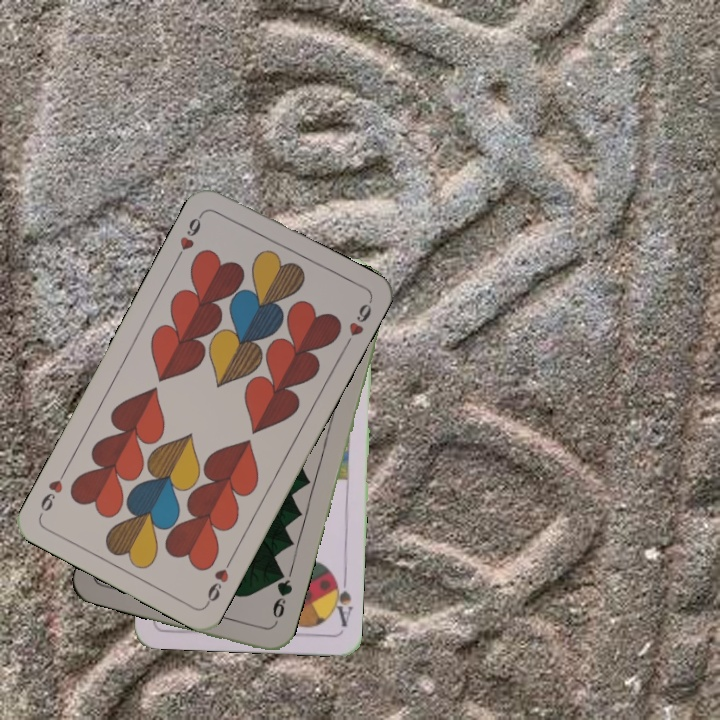G9: (268, 569, 295, 621)
H9: (202, 553, 236, 608), (172, 208, 206, 263)
SA: (327, 571, 355, 630)
